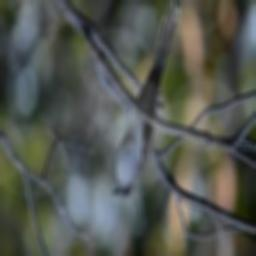Cuckoo: (111, 0, 180, 200)
